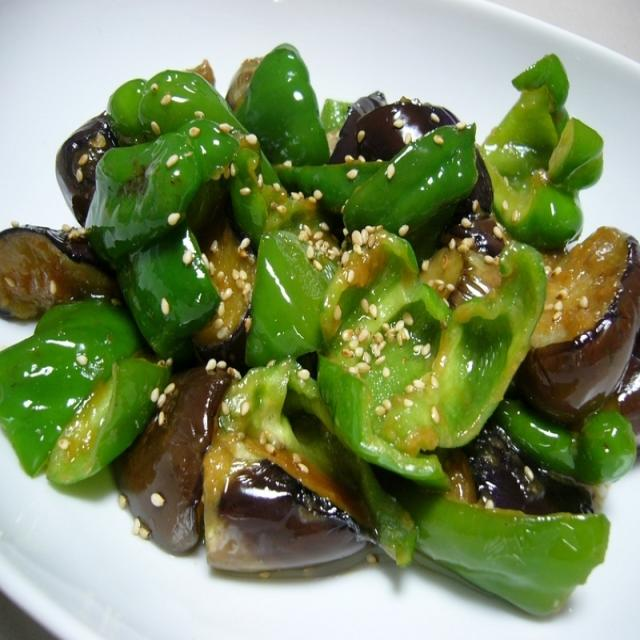鸡蛋料理: (0, 37, 640, 622)
